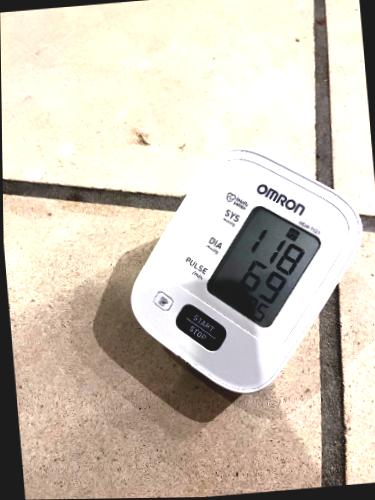bpm: (200, 200, 325, 333)
